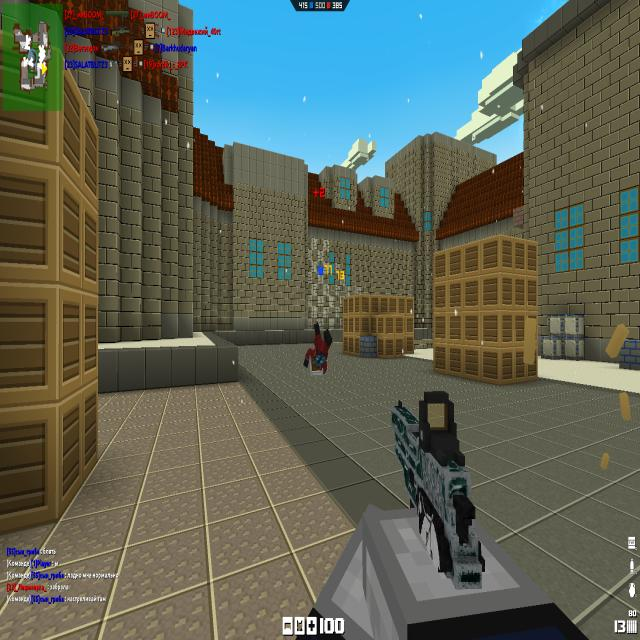player: (304, 322, 331, 375)
